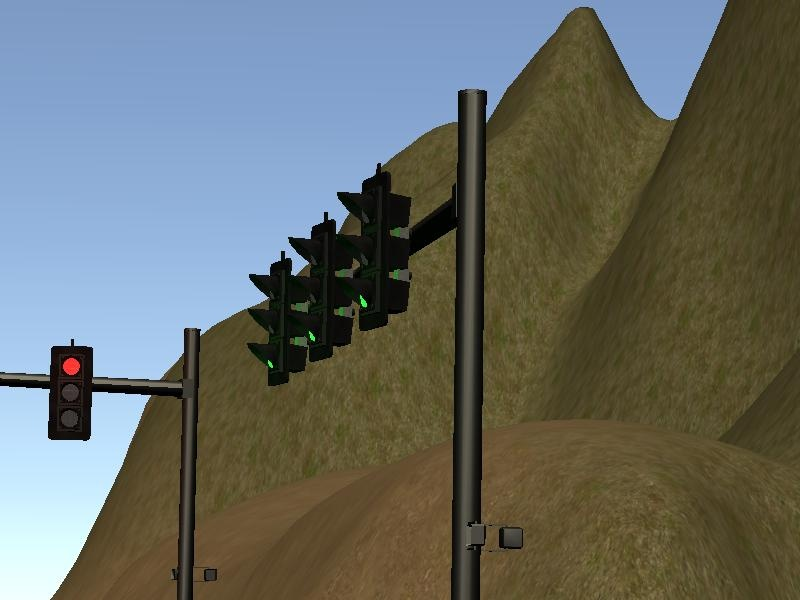RED: (49, 344, 92, 442)
